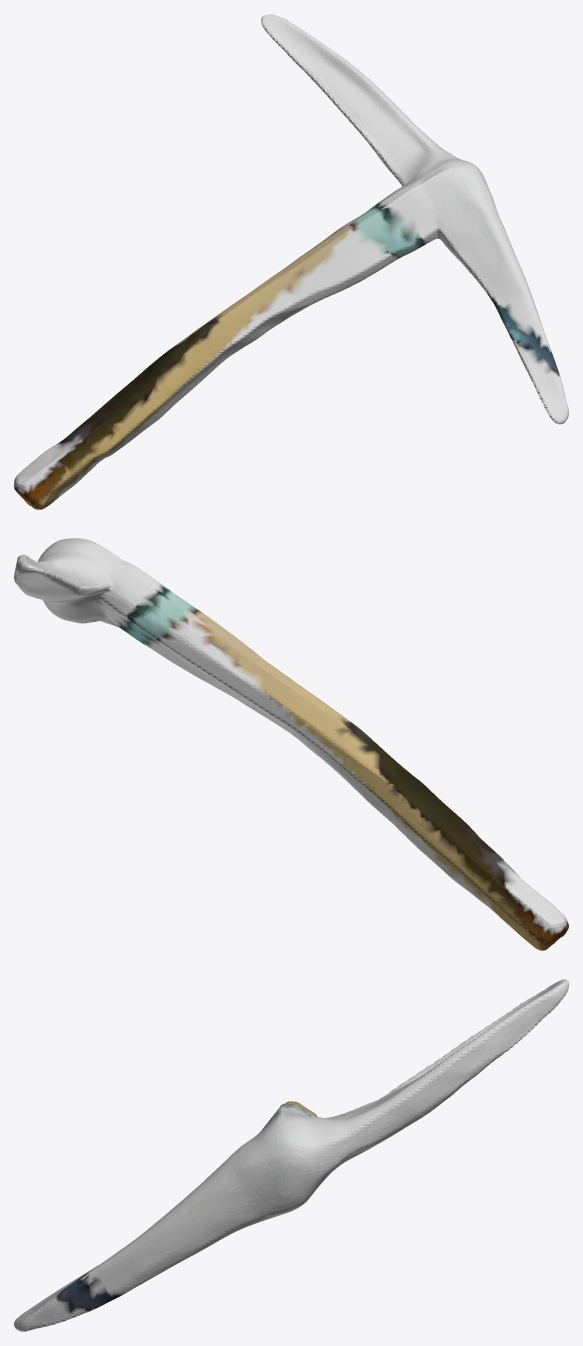
The model's file is pickaxe.glb.
3 views of the same model, one above another, from view 1: azimuth 30°, elevation 25°; view 2: azimuth 150°, elevation 25°; view 3: azimuth 270°, elevation 25° (orthographic). The views are drawn at different scales.
Visible parts, largest first — view 1: geometry_0; view 2: geometry_0; view 3: geometry_0.
Boxes of the visible parts, x1,y1,x2,y2 form: geometry_0: (14,14,568,509); geometry_0: (14,538,568,950); geometry_0: (14,979,568,1331).
Bounding box in the file's own units: 0.9062 × 0.622 × 0.7877.
